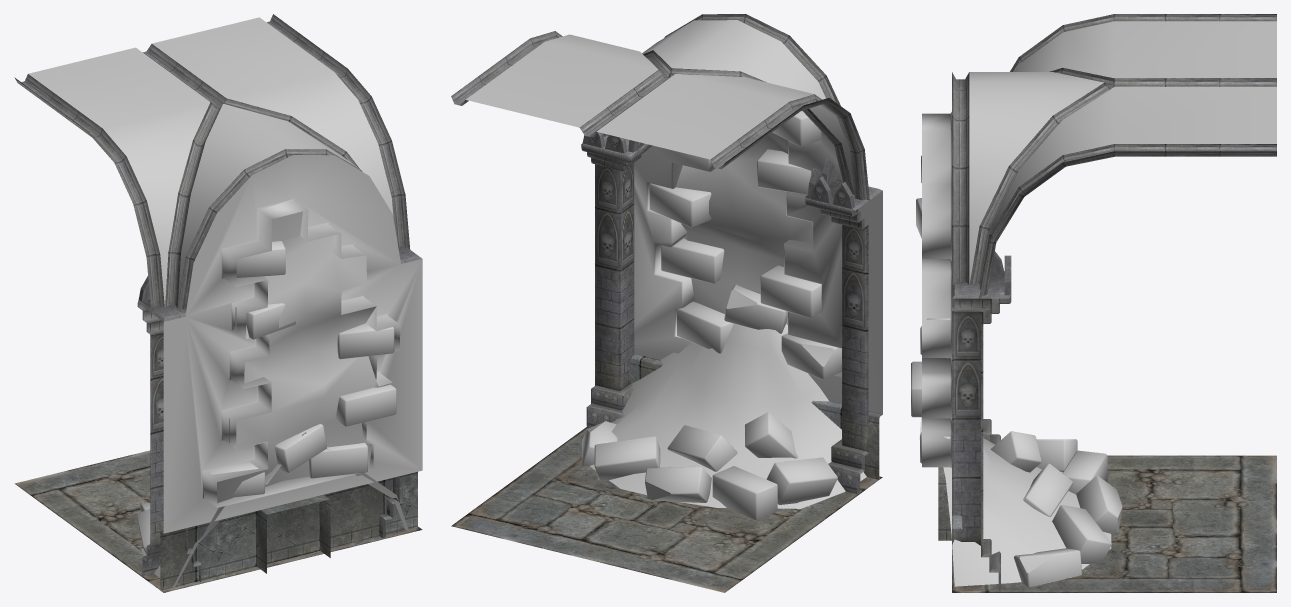
The model's file is Wall_Broken1.FBX.
3 renders of one model, left to right at view 1: azimuth 30°, elevation 25°; view 2: azimuth 150°, elevation 25°; view 3: azimuth 270°, elevation 25°, orthographic. The views are drawn at different scales.
Visible parts, largest first — view 1: Wall_03; view 2: Wall_03; view 3: Wall_03.
Boxes of the visible parts, <box> form: Wall_03: <box>14,14,422,592</box>; Wall_03: <box>451,14,882,592</box>; Wall_03: <box>911,14,1276,592</box>.
Bounding box in the file's own units: 500 × 773 × 563.
